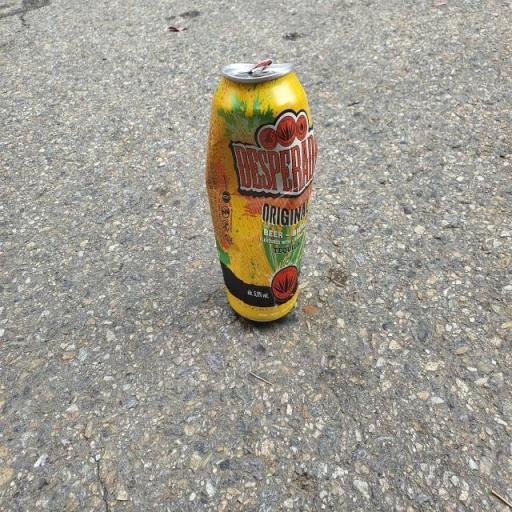metal: (194, 47, 324, 345)
